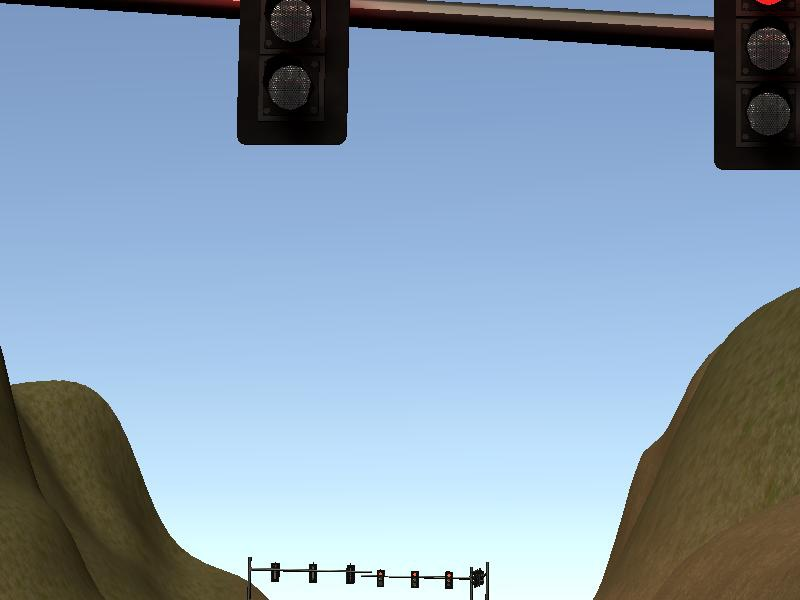Red: (408, 568, 420, 591), (442, 568, 453, 591), (375, 567, 385, 591)
